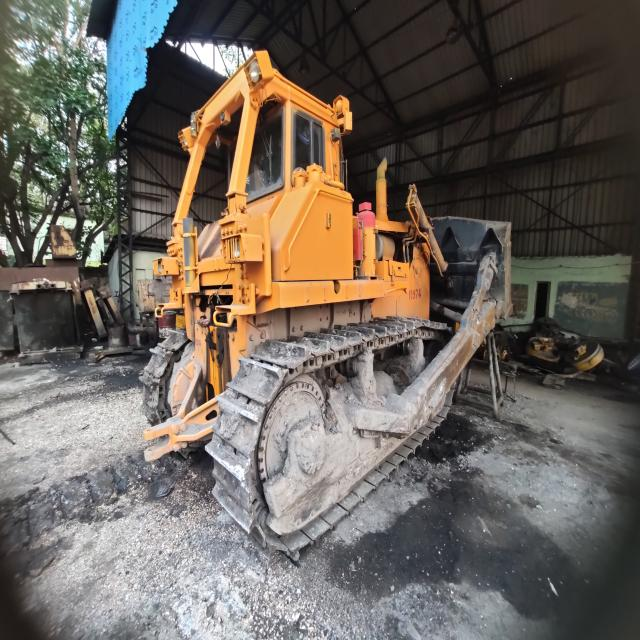buldozerpayloadergrader: (145, 51, 510, 539)
